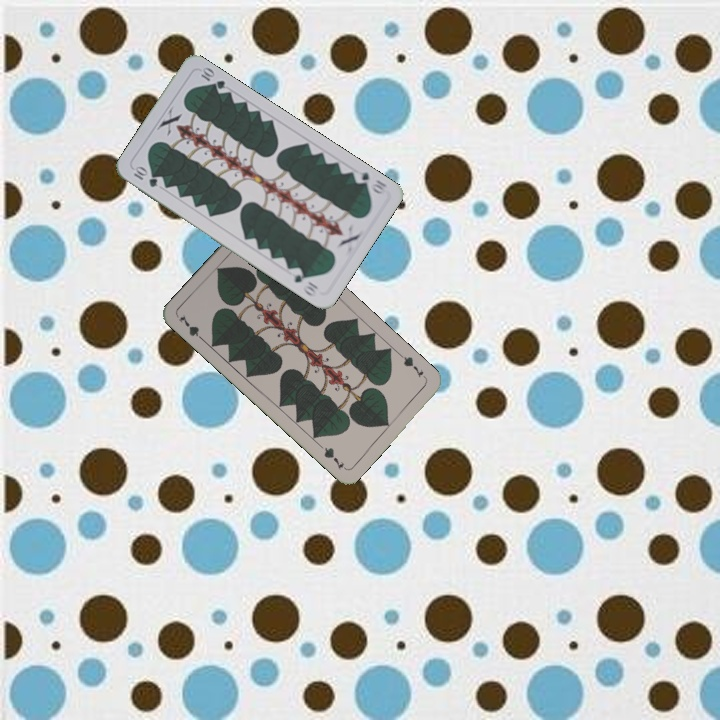G10: (350, 166, 391, 198), (130, 163, 160, 190)
G7: (174, 310, 208, 344), (396, 350, 429, 382)
